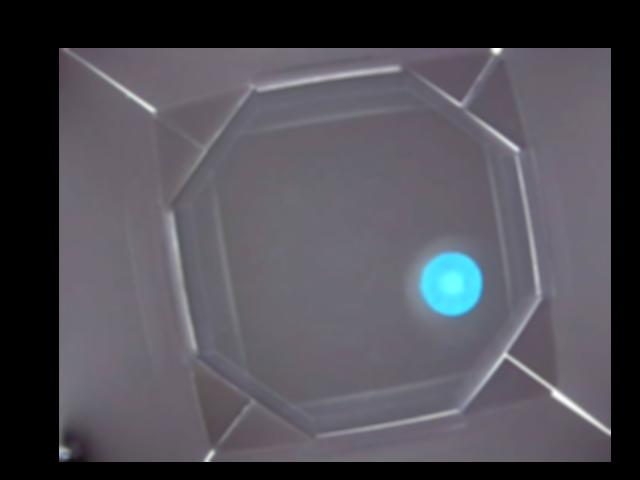Carrot: (420, 253, 482, 315)
